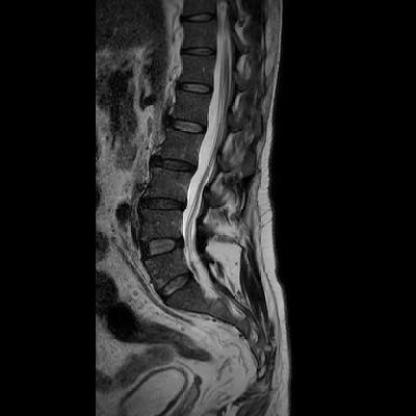Degenerative Disc Diseaserotation: (155, 155, 195, 175), (144, 194, 185, 212)
Disc Bulgerotation: (140, 234, 183, 258), (155, 155, 195, 175), (144, 194, 185, 212)
